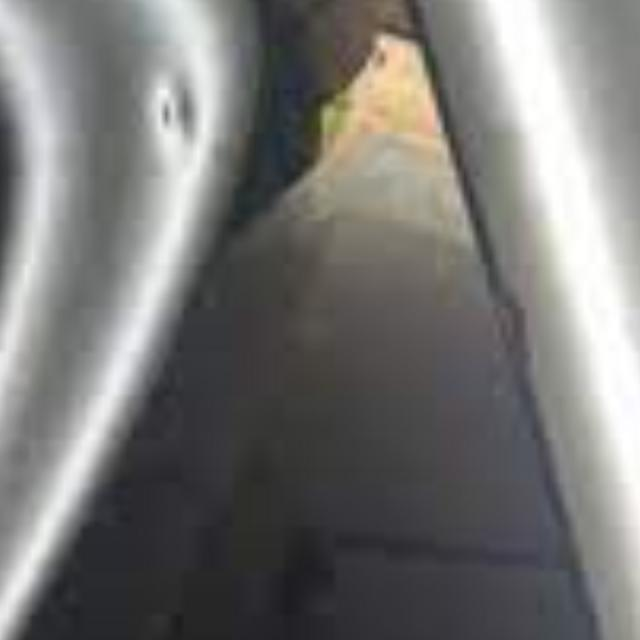dents: (152, 65, 238, 177)
